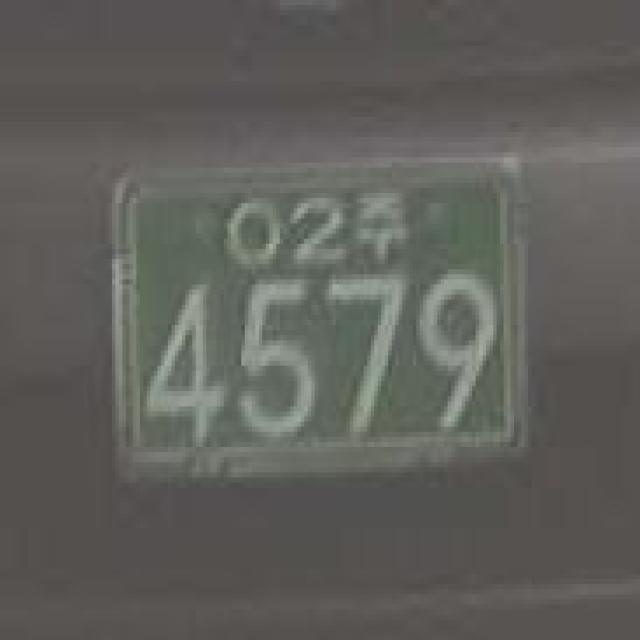illegal_plate: (94, 137, 535, 506)
